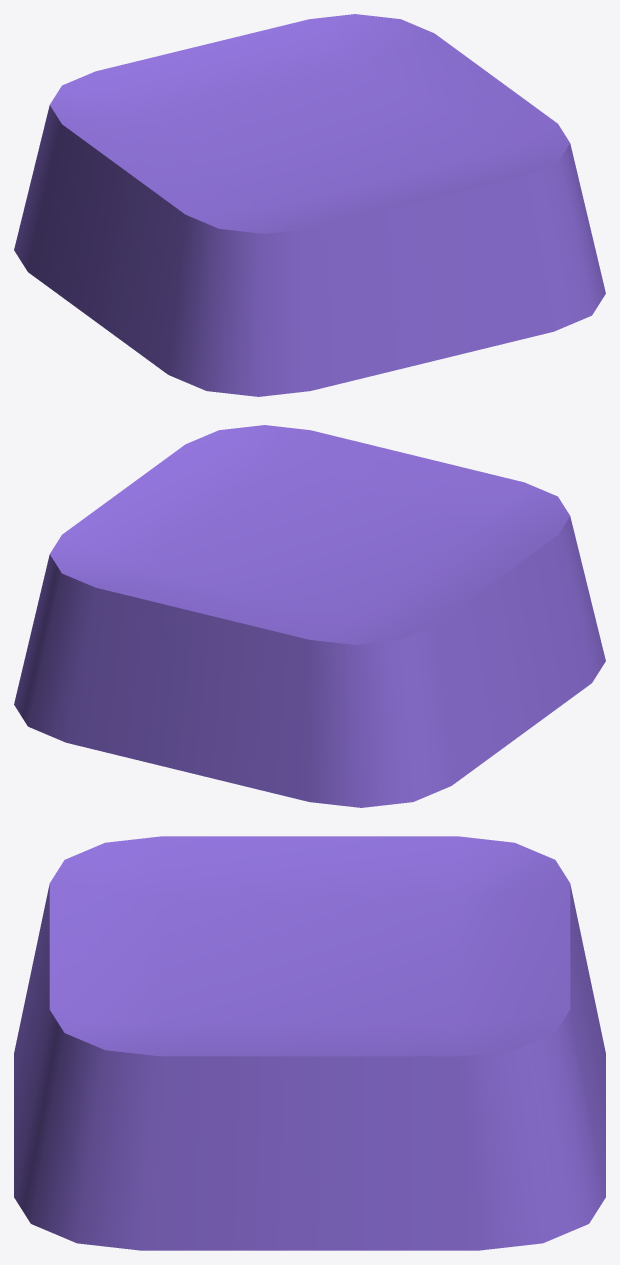
File: Button.fbx
3 renders of one model, top to bottom at view 1: azimuth 30°, elevation 25°; view 2: azimuth 150°, elevation 25°; view 3: azimuth 270°, elevation 25°, orthographic. The views are drawn at different scales.
Visible parts, largest first — view 1: Button; view 2: Button; view 3: Button.
Boxes of the visible parts, left/top/right/bottom form: Button: left=14, top=14, right=605, bottom=396; Button: left=14, top=425, right=605, bottom=807; Button: left=14, top=836, right=605, bottom=1250.
Bounding box in the file's own units: 1.45 × 0.4853 × 1.45.
